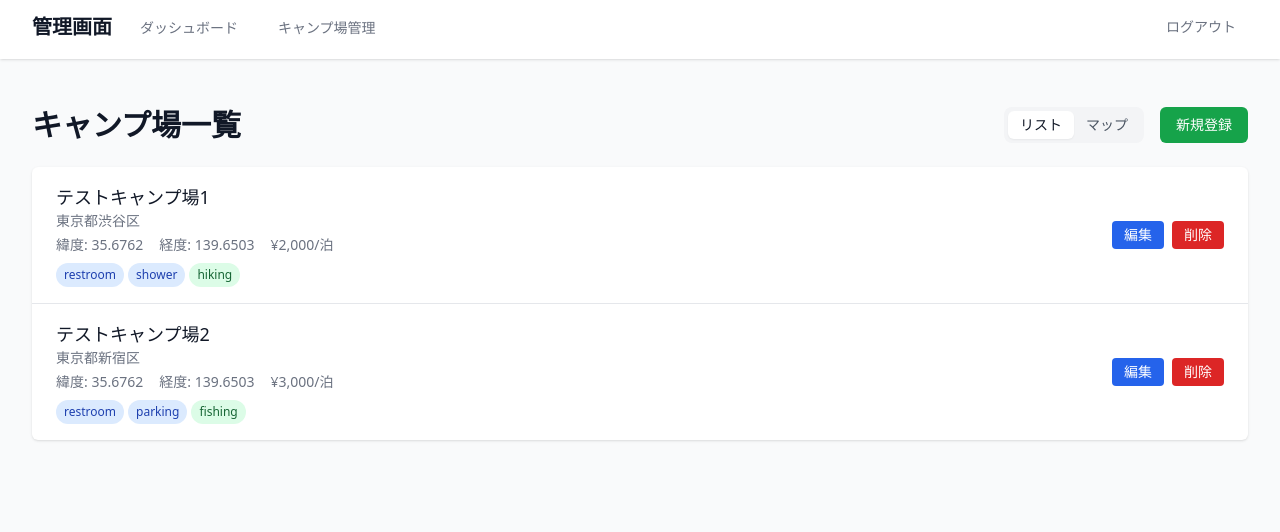
Test case: CampsitesListPage › 削除失敗時のエラー表示
Expected: the heading "テストキャンプ場1" is shown, [56,185,210,209]
Click the button "削除" in the row of "¥2,000/泊": (1198, 235) [1172,221,1224,249]
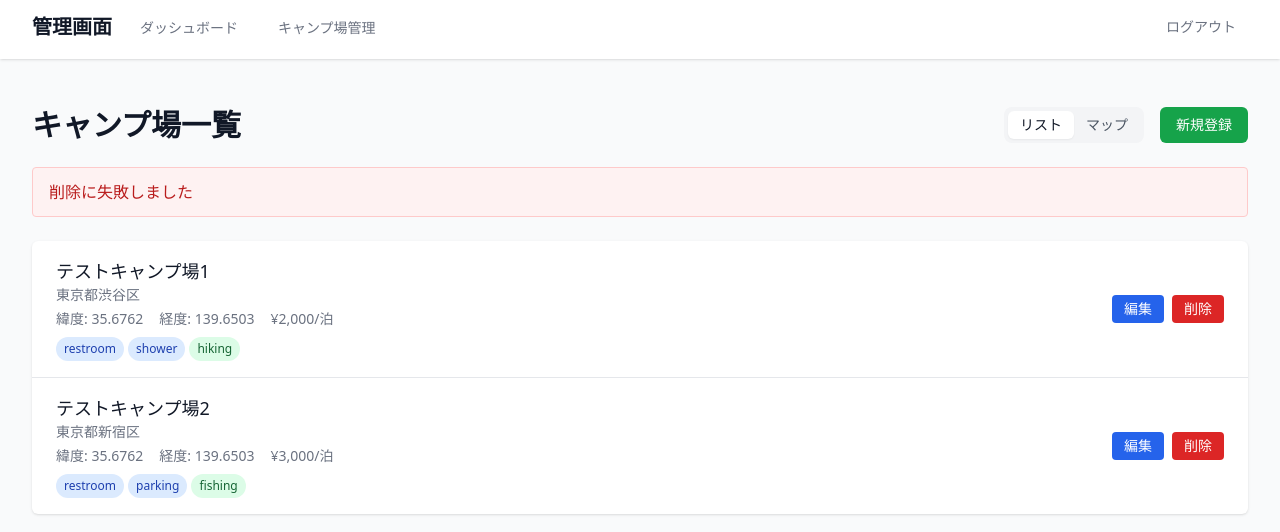
Result: the text "削除に失敗しました" is shown at [32,167,1248,217]
